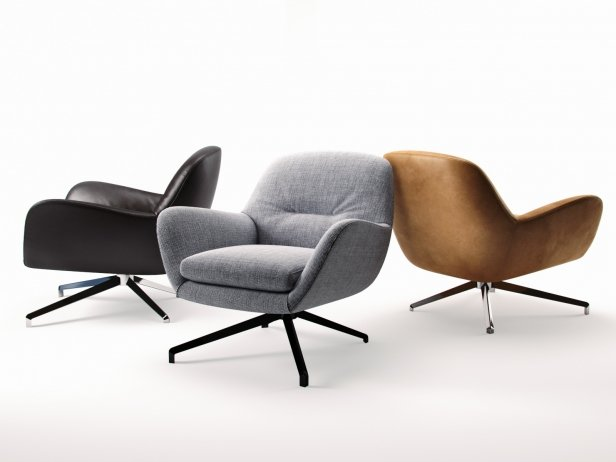chairs: (156, 151, 394, 392), (376, 148, 605, 335), (20, 144, 224, 327)
